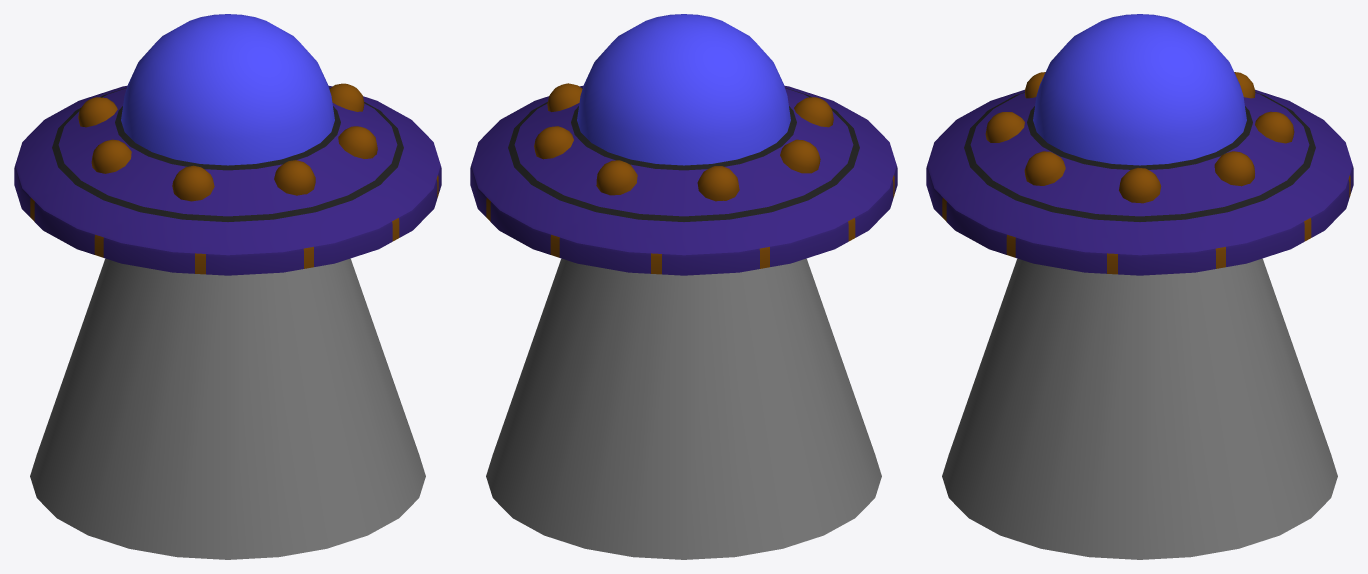
Rendered from UFO.fbx.
The picture shows the model from 3 angles, left to right: view 1: azimuth 30°, elevation 25°; view 2: azimuth 150°, elevation 25°; view 3: azimuth 270°, elevation 25°; orthographic projection.
Visible parts, largest first — view 1: UFO; view 2: UFO; view 3: UFO.
Part boxes in pixels (left/top/right/bottom): UFO: left=14, top=14, right=441, bottom=559; UFO: left=470, top=14, right=897, bottom=559; UFO: left=926, top=14, right=1353, bottom=559.
Bounding box in the file's own units: 141 × 165 × 141.
